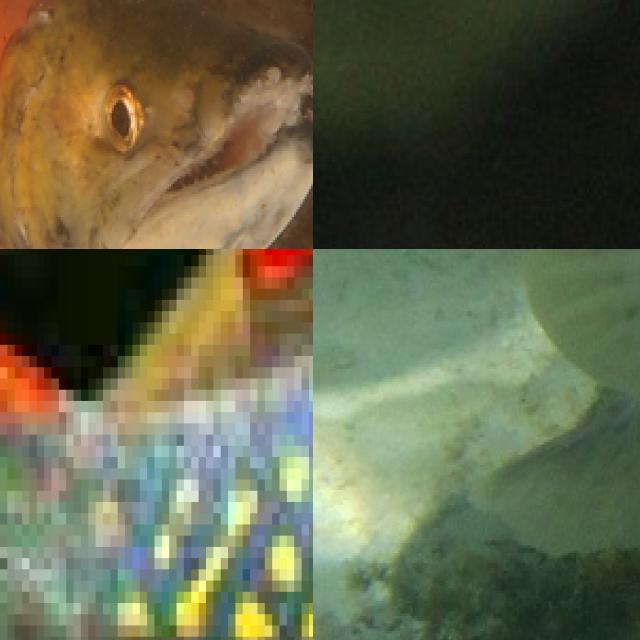fish: (313, 249, 640, 640), (0, 249, 313, 592), (0, 0, 313, 249)
